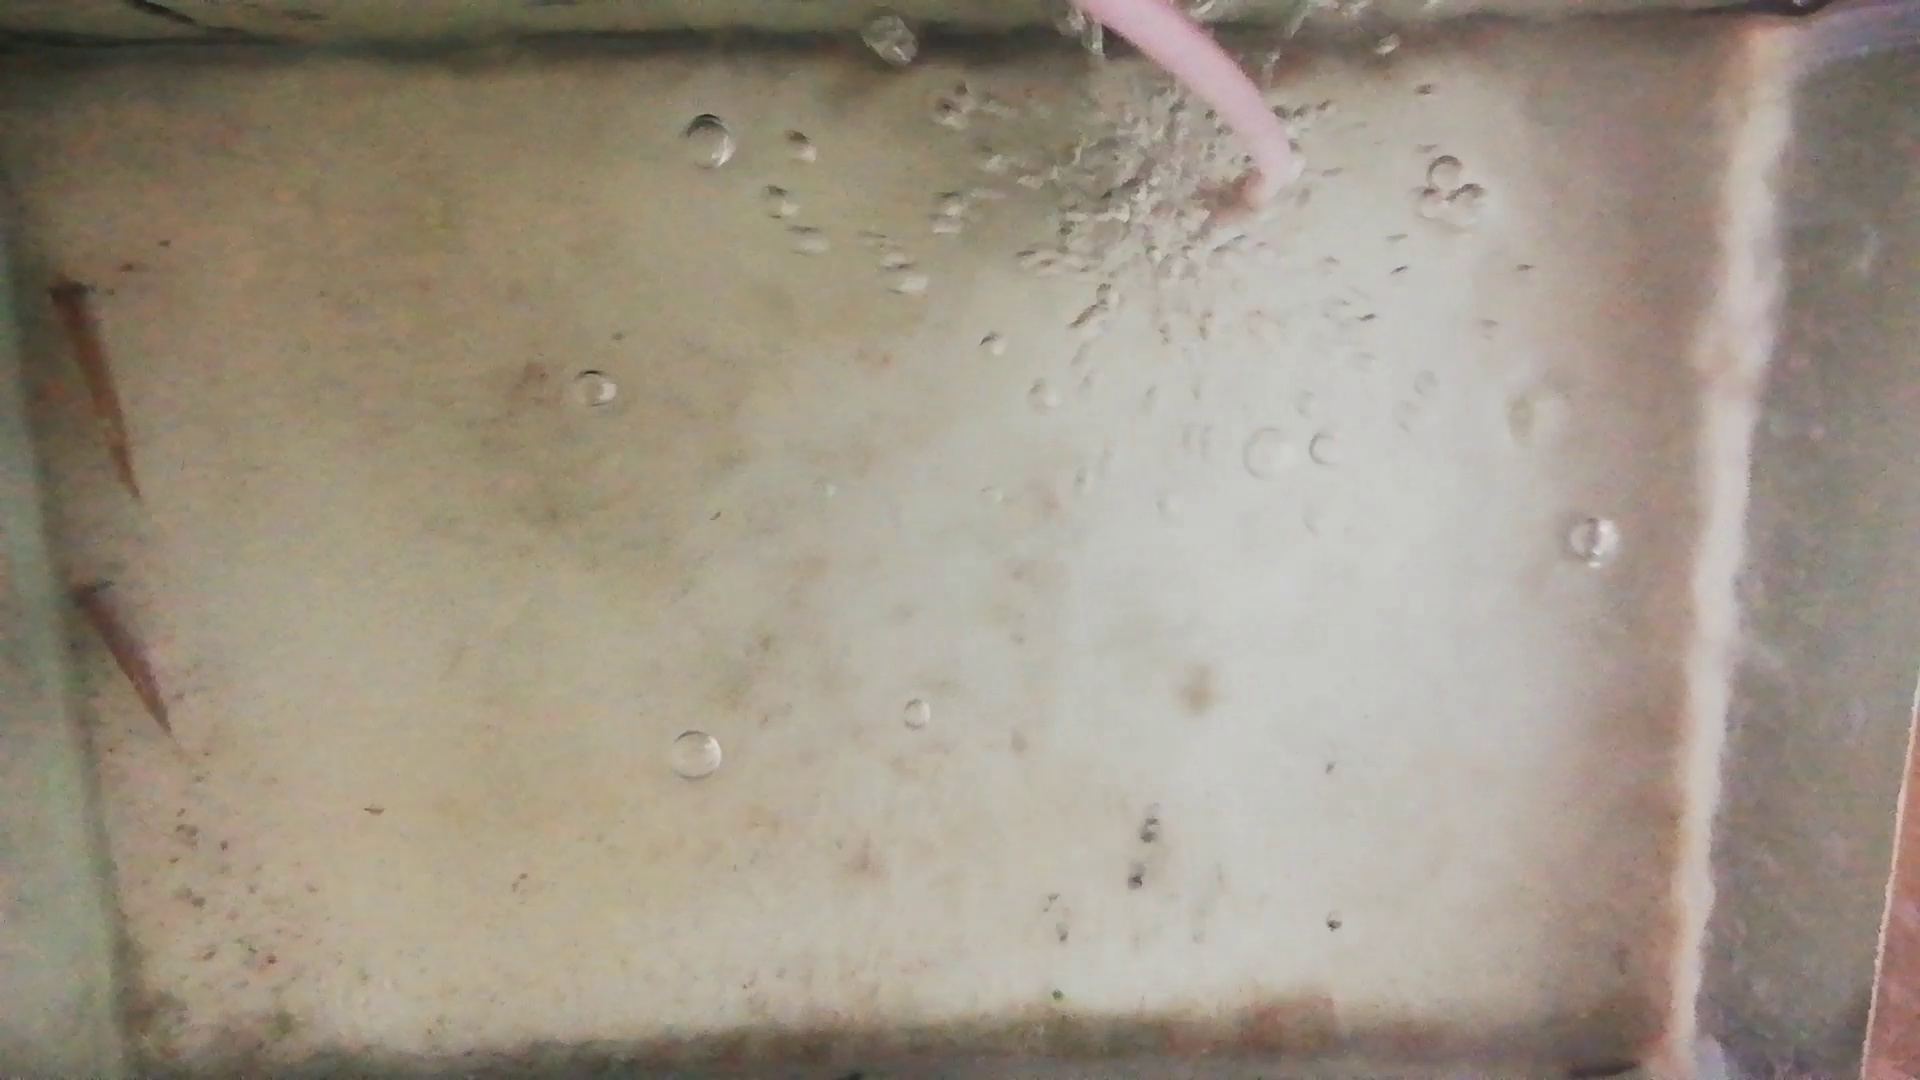fish: (50, 274, 142, 500), (65, 571, 171, 736)
